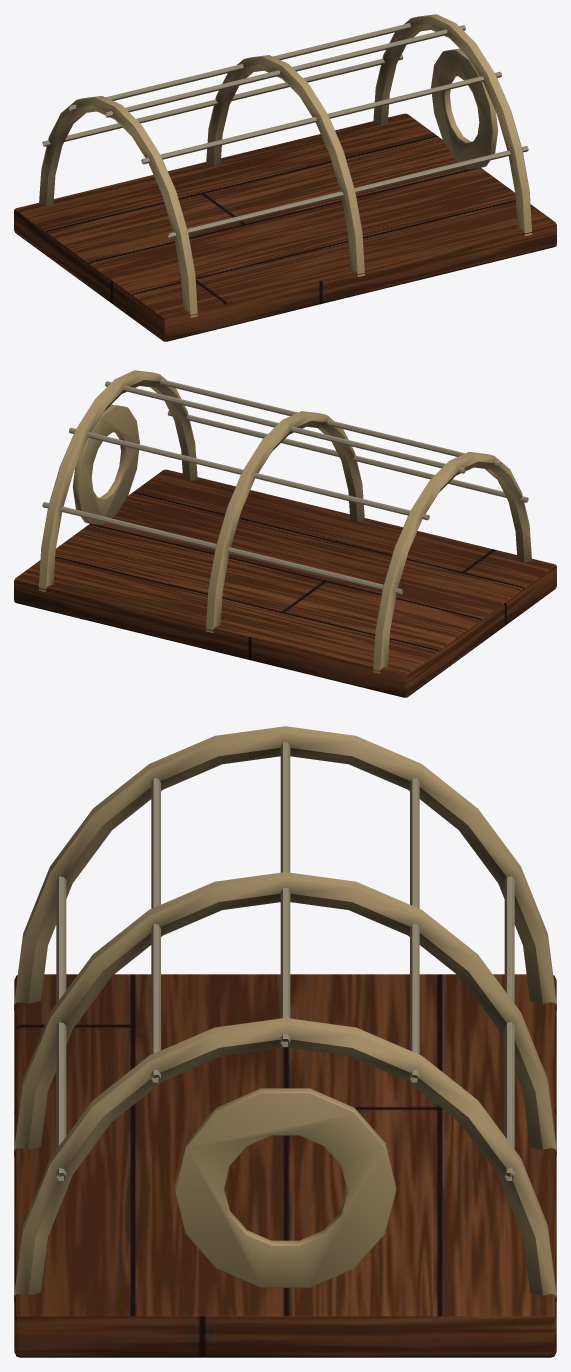
The model's file is lobsterpot.glb.
3 views of the same model, one above another, from view 1: azimuth 30°, elevation 25°; view 2: azimuth 150°, elevation 25°; view 3: azimuth 270°, elevation 25° (orthographic). The views are drawn at different scales.
Visible parts, largest first — view 1: boat_house, boat_wicker, boat_net; view 2: boat_house, boat_wicker, boat_net; view 3: boat_house, boat_wicker, boat_net.
Part boxes in pixels (box(x1,y1,x2,y2)): boat_house: box(14, 113, 556, 341); boat_wicker: box(39, 14, 532, 317); boat_net: box(42, 23, 528, 238); boat_house: box(14, 469, 556, 697); boat_wicker: box(38, 370, 531, 673); boat_net: box(42, 379, 528, 594); boat_house: box(14, 974, 556, 1357); boat_wicker: box(14, 726, 556, 1301); boat_net: box(56, 742, 514, 1180).
Bounding box in the file's own units: 0.66 × 0.2804 × 0.4406.
3 materials, 1 textured.
